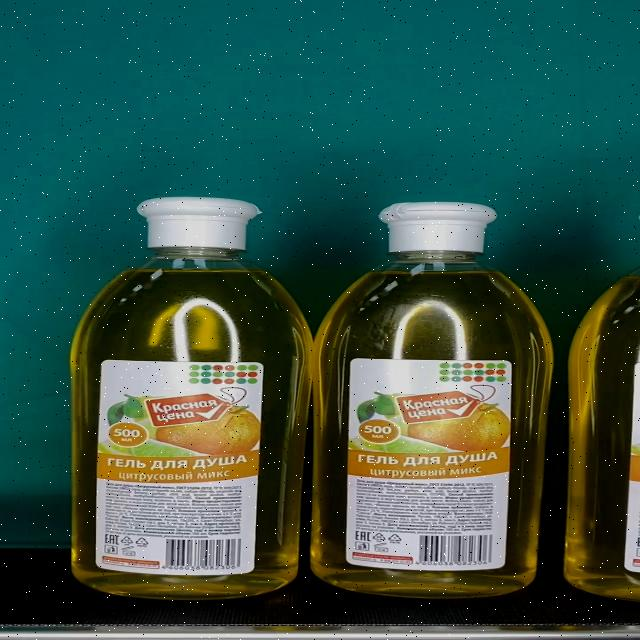Bottle: (69, 197, 314, 601), (312, 202, 554, 598)
Cap: (136, 198, 261, 248), (378, 202, 498, 254)
